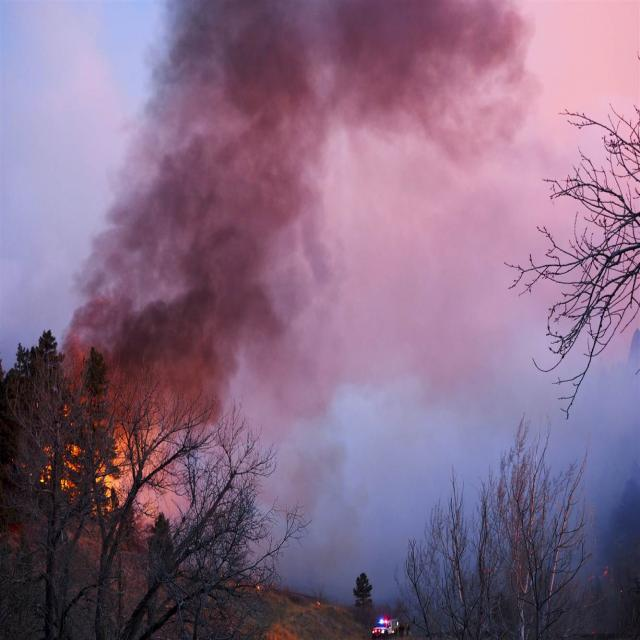Fire: (53, 386, 145, 516)
Smoke: (83, 0, 487, 416)
